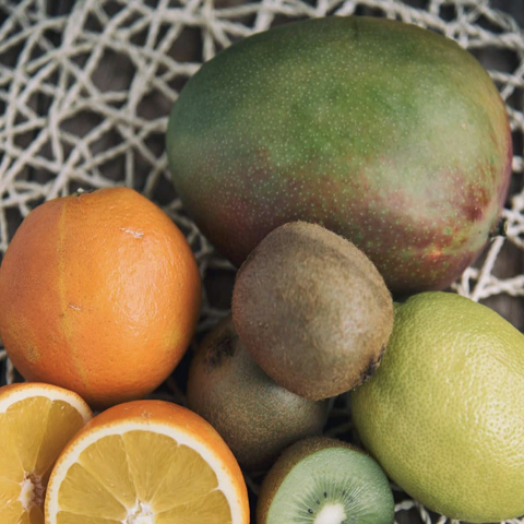kiwi: (128, 11, 524, 292), (233, 213, 391, 402)
orange: (0, 179, 207, 399)
